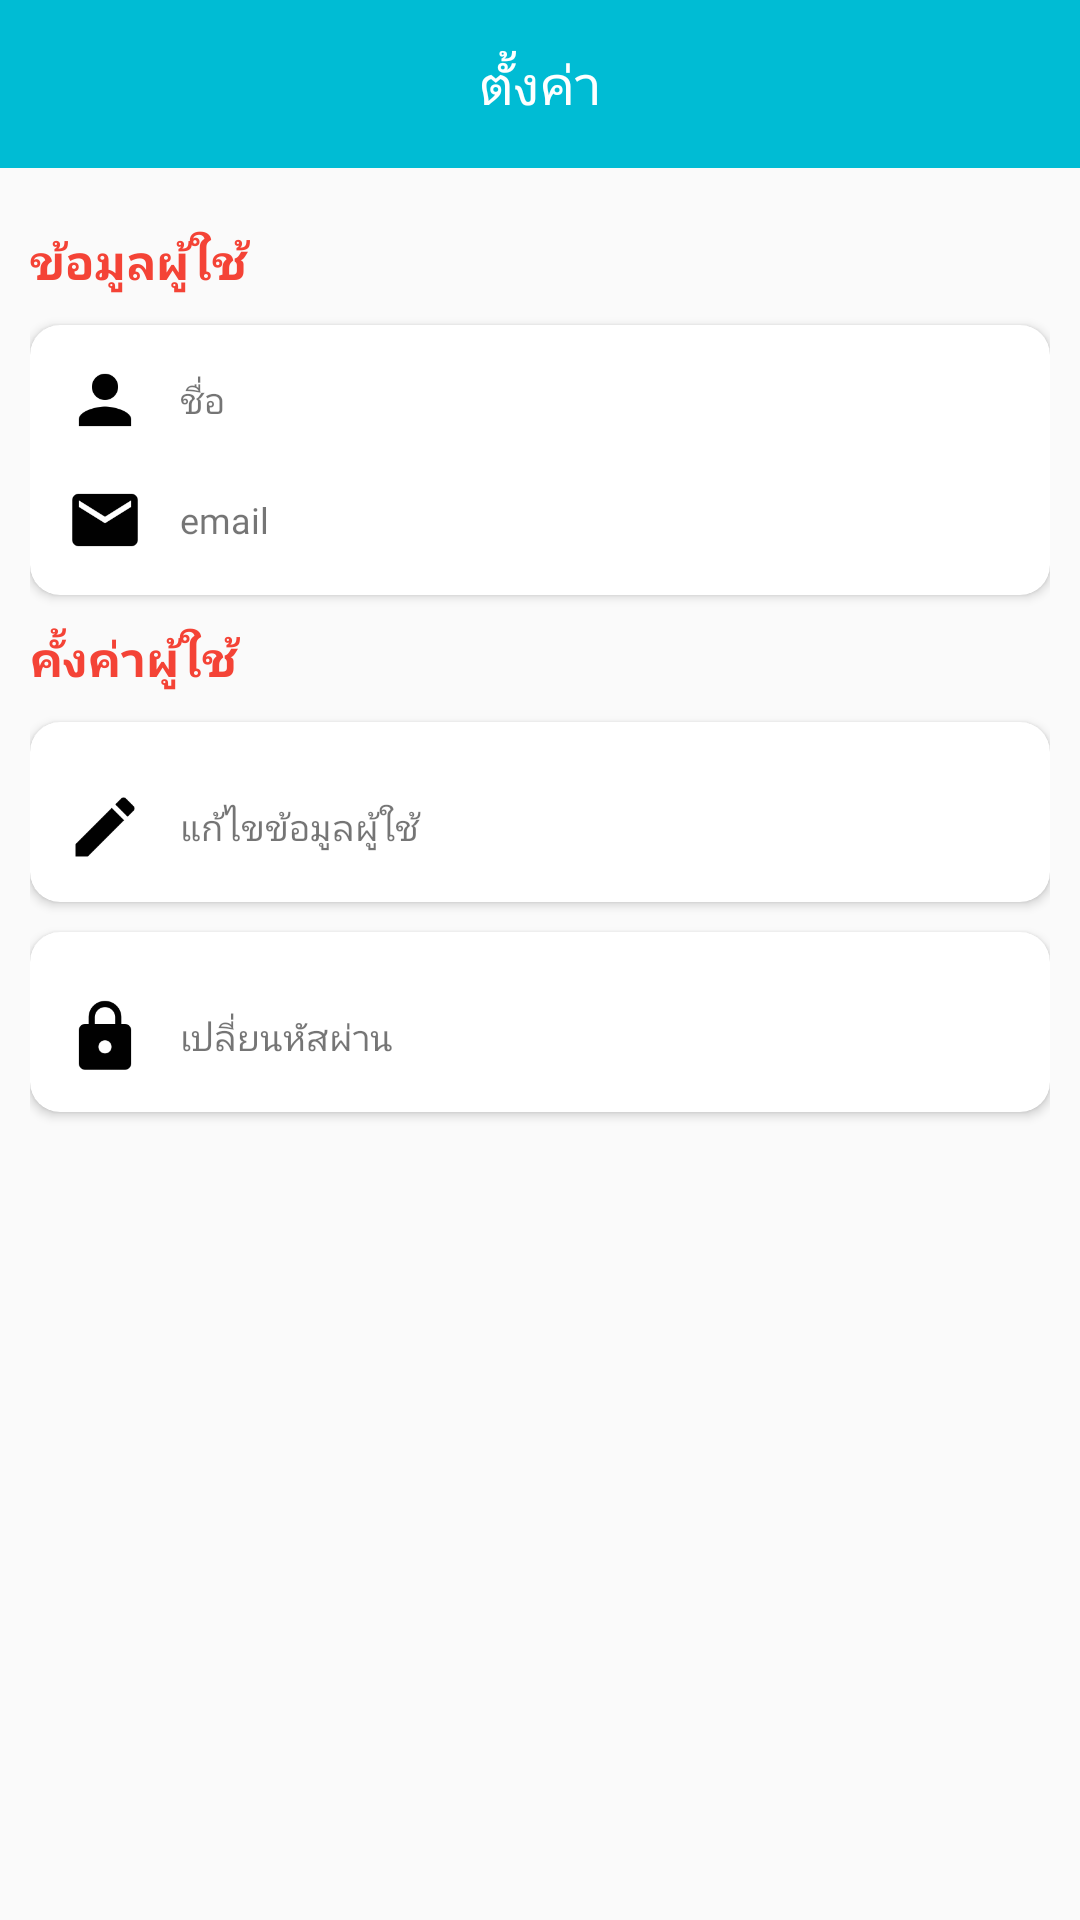

Icon click points for this 1080 × 1920 phone screenshot, format (x=x, y=y):
edit: (x=105, y=827)
name user setting: (x=105, y=400)
pass setting: (x=105, y=1035)
